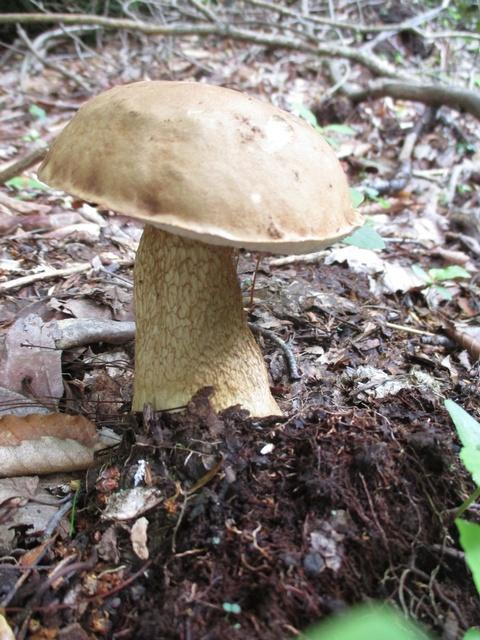Non-edible Mushroom: (35, 78, 365, 422)
